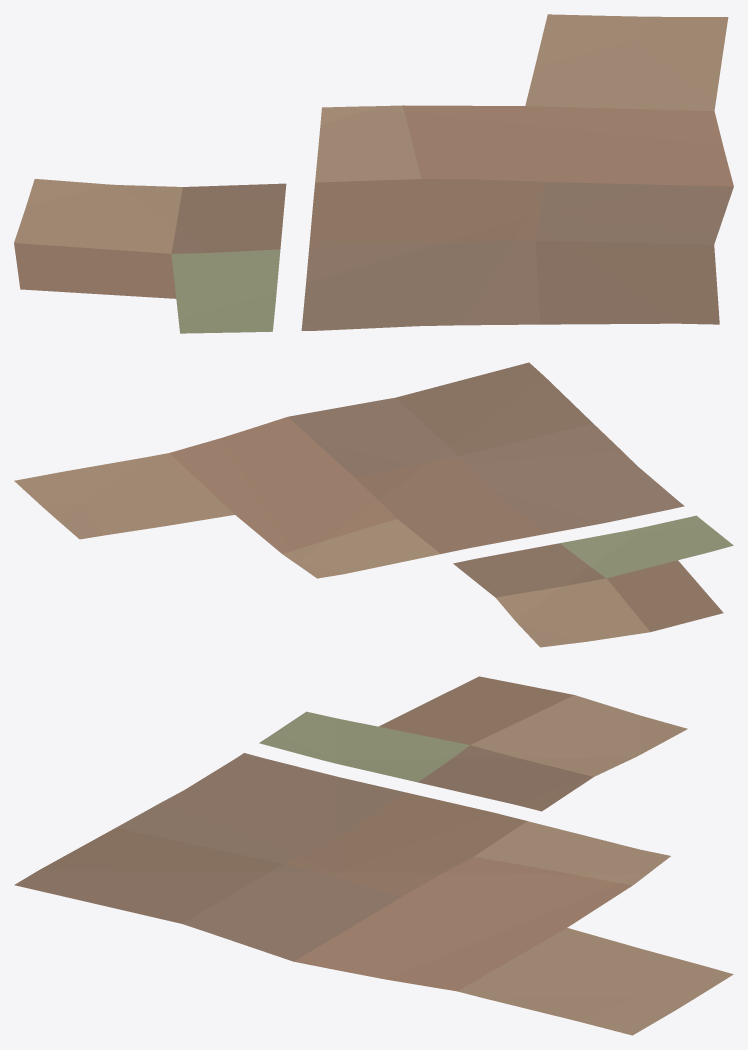
Rendered from farm_6_0_soil.glb.
The picture shows the model from 3 angles, top to bottom: view 1: azimuth 30°, elevation 25°; view 2: azimuth 150°, elevation 25°; view 3: azimuth 270°, elevation 25°; orthographic projection. The views are drawn at different scales.
Parts seen in each view (by area): view 1: geometry_0; view 2: geometry_0; view 3: geometry_0.
Boxes of the visible parts, x1=… form: geometry_0: x1=14, y1=14, x2=733, y2=333; geometry_0: x1=14, y1=362, x2=733, y2=647; geometry_0: x1=14, y1=676, x2=733, y2=1035.
Bounding box in the file's own units: 240 × 7.32 × 190.
